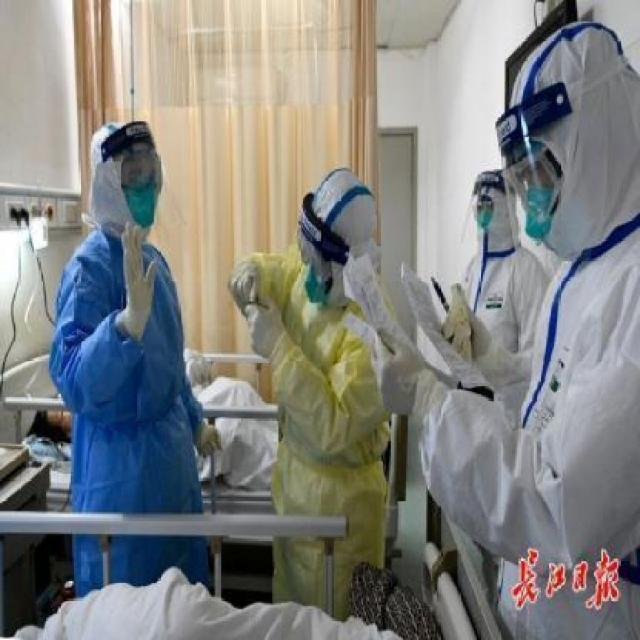gloves: (368, 326, 422, 422), (120, 218, 162, 324), (436, 304, 490, 370), (242, 294, 280, 366), (228, 258, 258, 306), (192, 416, 223, 462)
